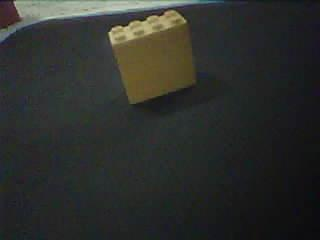lego: (106, 8, 197, 107)
